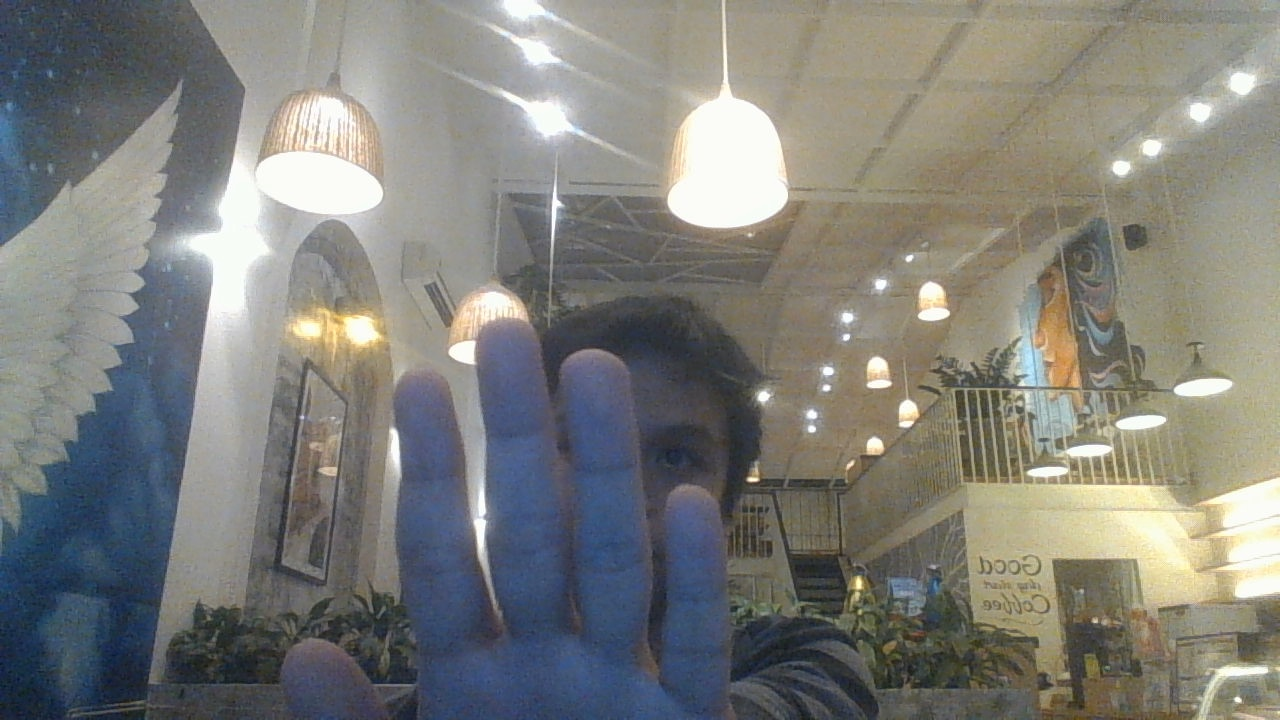check: (280, 321, 734, 720)
